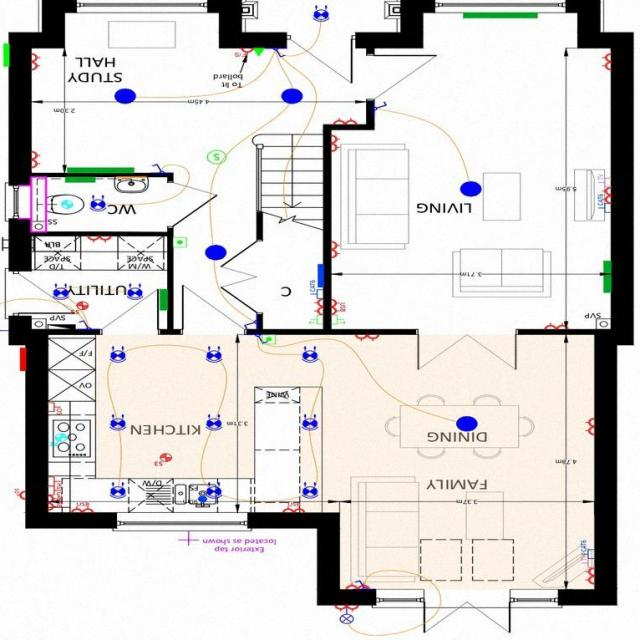BT Entry Point: (256, 49, 265, 57)
Cat 6 Data Socket: (581, 541, 595, 560), (311, 280, 324, 300), (599, 195, 612, 214)
Ceiling Mounted Continuous Extract FanWith Boost Mode Activated By Light Switch: (62, 200, 73, 210)
Ceiling Mounted Continuous Extract FanWith Local Boost Switch: (72, 302, 89, 316), (155, 454, 173, 467)
Co-Ax TV Socket: (582, 557, 595, 570), (599, 176, 612, 187)
D: (336, 607, 359, 613)
Double Socket: (349, 583, 370, 592), (332, 135, 342, 153), (332, 242, 342, 259), (586, 419, 596, 436), (32, 152, 42, 169), (602, 187, 612, 204), (586, 568, 595, 586), (603, 53, 612, 71), (89, 237, 112, 244), (546, 323, 569, 330), (314, 300, 324, 316), (32, 55, 42, 71), (356, 336, 380, 342), (334, 119, 358, 125)
Electric Meter Box: (21, 348, 27, 372)
External Wall Light: (341, 609, 355, 625), (0, 326, 9, 336)
Fused spur: (236, 50, 254, 59)
Gas Meter Box: (4, 44, 11, 68)
Grid Switch: (49, 487, 63, 502)
Hob Switch: (49, 478, 63, 490)
Light Switch: (355, 580, 368, 592), (79, 320, 92, 330), (375, 102, 388, 112), (274, 50, 287, 59), (256, 336, 268, 345), (245, 321, 257, 330)
Low Energy Downlighter: (302, 414, 320, 432), (206, 414, 224, 432), (303, 483, 320, 500), (206, 347, 223, 364), (110, 483, 127, 500), (110, 415, 127, 432), (54, 284, 70, 302), (207, 483, 223, 500), (111, 347, 127, 364), (128, 284, 144, 301), (90, 196, 107, 212), (303, 348, 319, 364), (314, 6, 330, 22)
Low Energy Pendant Light: (457, 417, 479, 433), (206, 246, 228, 262), (283, 90, 304, 106), (461, 182, 482, 197), (115, 90, 137, 104)
Mains Wired Smoke Detector: (208, 152, 227, 166)
Outside Socket: (15, 489, 27, 500)
Outside Tap: (178, 532, 200, 547)
Oven Switch: (49, 404, 63, 416)
Programmable Room Thermostat: (262, 337, 276, 345), (175, 239, 187, 248)
Radiator: (464, 13, 538, 20), (68, 168, 134, 174), (604, 262, 613, 293), (160, 290, 169, 312), (67, 178, 95, 183)
Recirculating Extractor Fan: (51, 434, 68, 447)
Telephone Socket: (332, 316, 346, 327), (309, 317, 324, 326)
USB Double Socket: (283, 503, 306, 514), (74, 502, 95, 514), (332, 300, 347, 316), (49, 496, 63, 512)
Underfloor Heating Manifold: (318, 265, 324, 288)
Water Entry Position: (199, 496, 208, 503)
